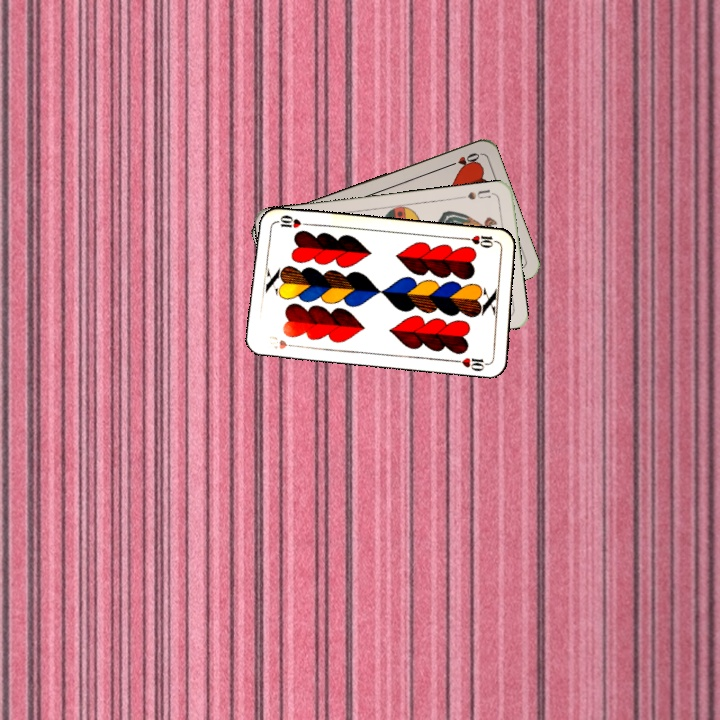H10: (461, 231, 501, 251), (265, 336, 302, 352)
HO: (443, 149, 482, 170)
SU: (456, 186, 497, 202)
